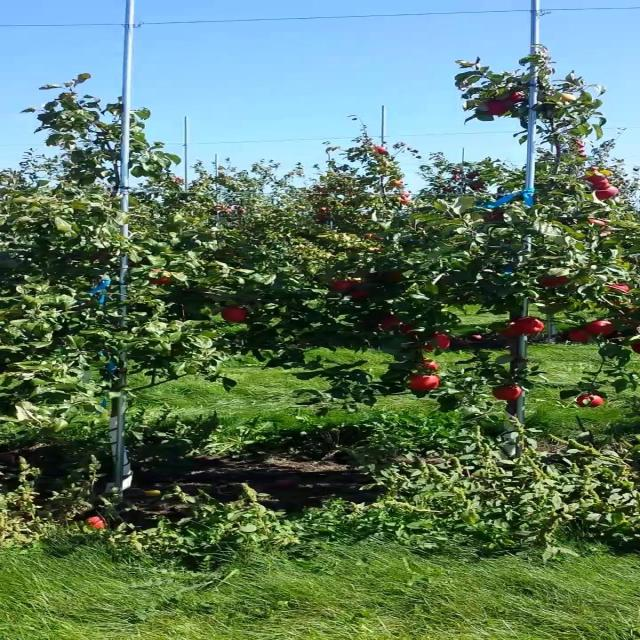apple: (412, 376, 441, 392), (611, 284, 633, 305), (518, 320, 548, 335), (589, 320, 617, 336), (426, 336, 453, 352), (376, 316, 404, 331), (227, 308, 249, 324), (490, 100, 512, 116), (497, 388, 524, 401), (575, 396, 604, 408), (540, 276, 569, 288), (589, 176, 612, 191), (148, 272, 172, 285), (397, 324, 420, 337), (596, 188, 619, 200), (333, 280, 356, 292), (568, 332, 590, 344), (483, 212, 505, 224), (383, 272, 405, 283), (504, 92, 524, 104), (589, 220, 610, 231), (504, 328, 524, 338), (348, 292, 370, 301), (426, 360, 441, 372), (561, 96, 576, 104)
